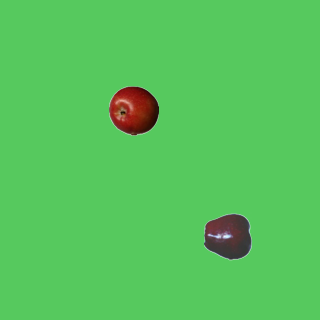Apple Braeburn: (108, 85, 158, 135)
Apple Red Delicious: (203, 211, 253, 261)
